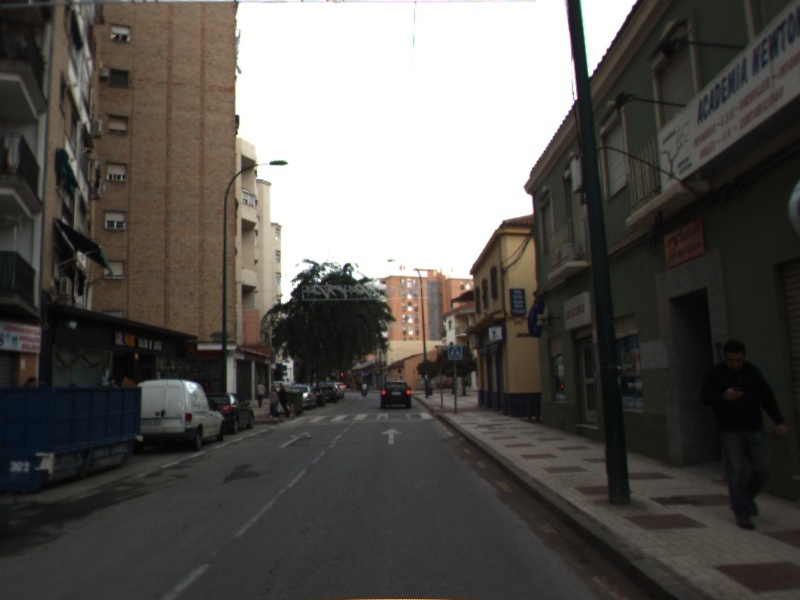STRAIGHT: (275, 429, 314, 450), (379, 426, 405, 447)
